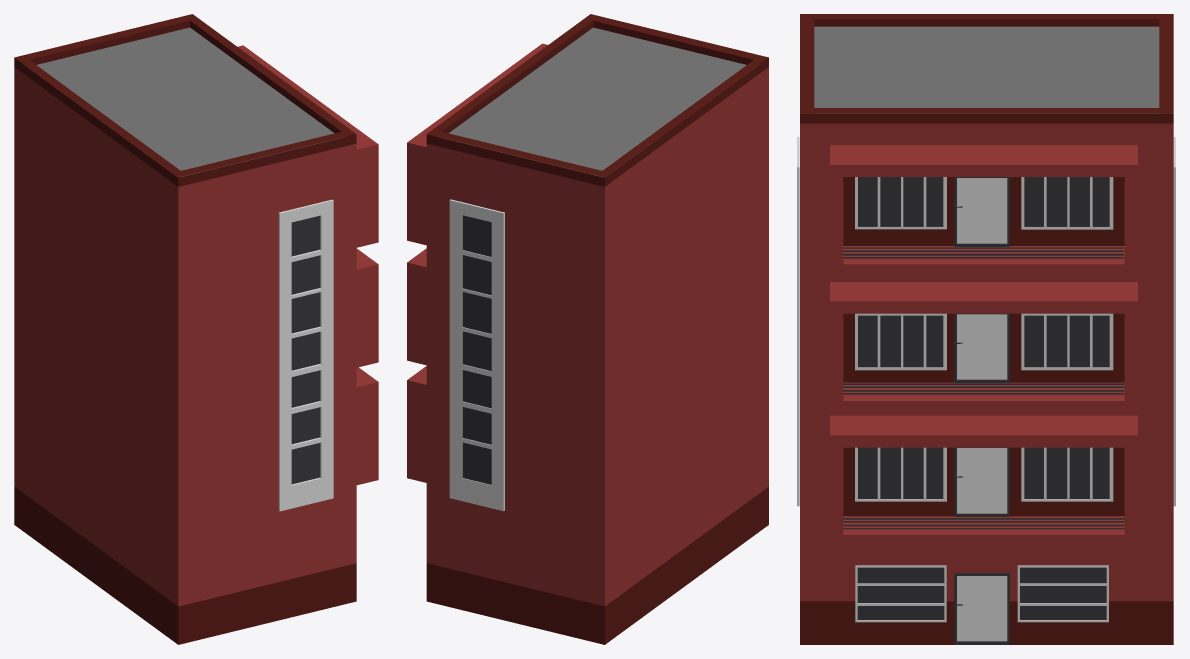
Rendered from Building_PanelModern_Redfbx.fbx.
3 views of the same model, side by side, from view 1: azimuth 30°, elevation 25°; view 2: azimuth 150°, elevation 25°; view 3: azimuth 270°, elevation 25° (orthographic). The views are drawn at different scales.
Visible parts, largest first — view 1: Plane.001, Plane; view 2: Plane.001, Plane; view 3: Plane.001, Plane, Plane.003, Plane.004.
Part boxes in pixels (bbox=[...]): Plane.001: bbox=[14, 14, 356, 644]; Plane: bbox=[237, 45, 378, 485]; Plane.001: bbox=[426, 14, 768, 644]; Plane: bbox=[407, 43, 547, 482]; Plane.001: bbox=[797, 14, 1175, 644]; Plane: bbox=[830, 145, 1137, 546]; Plane.003: bbox=[855, 177, 1113, 622]; Plane.004: bbox=[954, 177, 1009, 644].
Size of the model in its own units: 665 by 1393 by 899.
